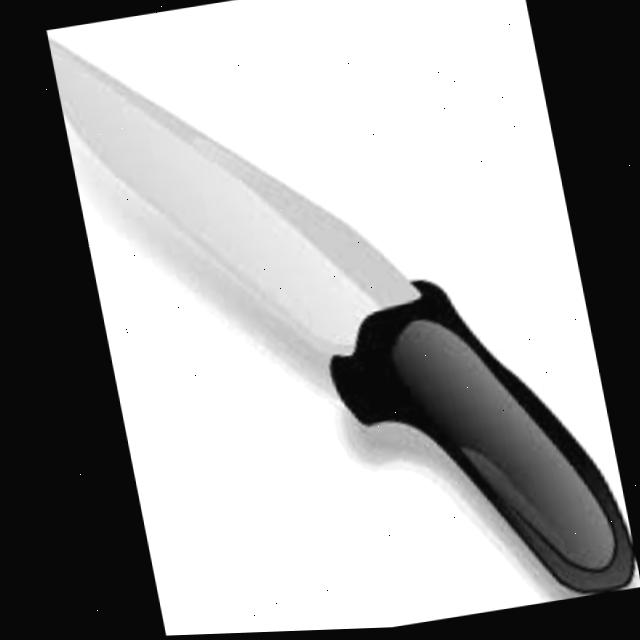Knife: (44, 0, 633, 639)
